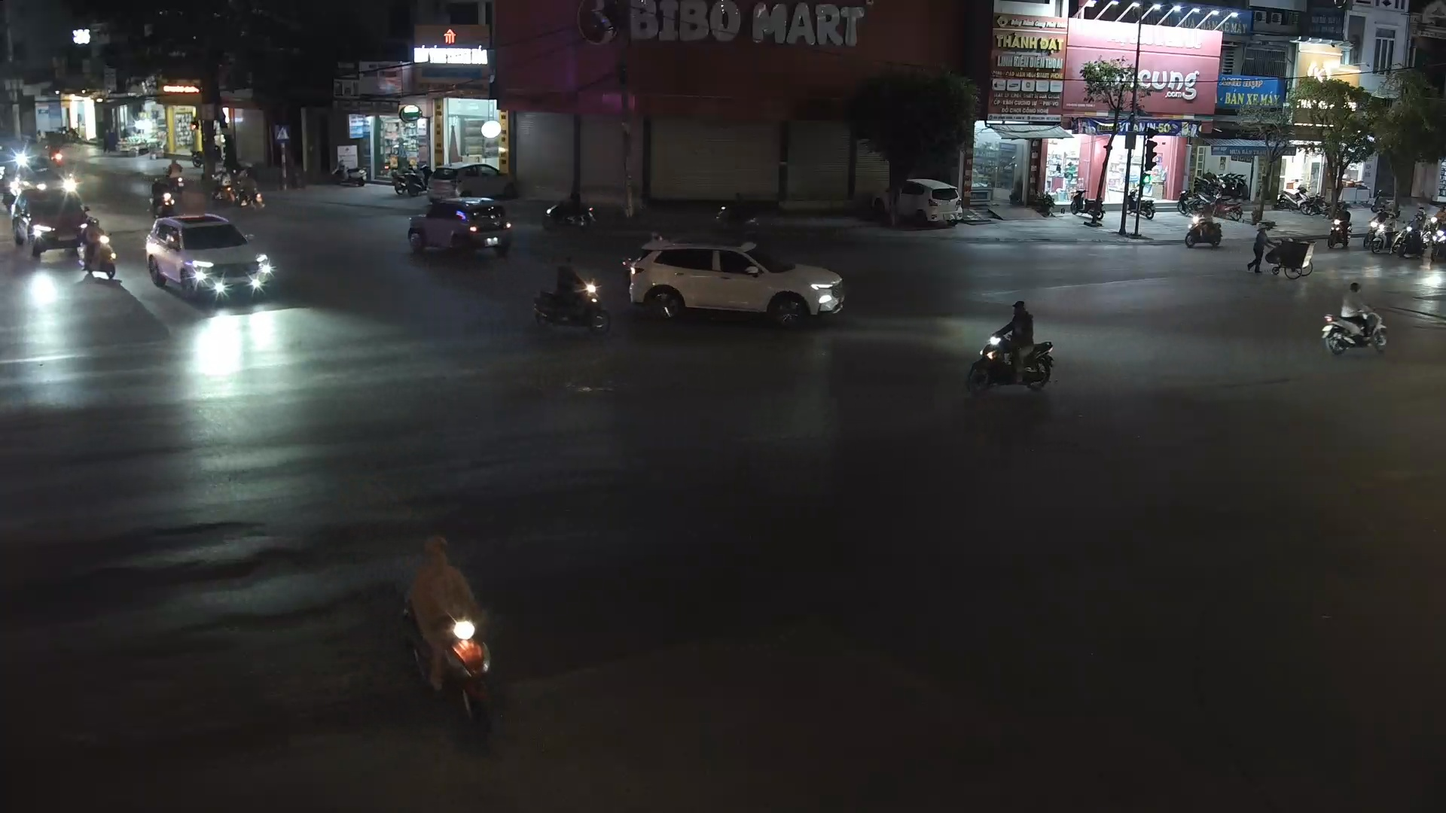car: (625, 234, 847, 326), (145, 209, 273, 309), (405, 192, 515, 261), (20, 182, 88, 265)
motorbike: (400, 530, 501, 740), (962, 297, 1058, 397), (529, 259, 616, 339), (1319, 278, 1390, 356)
